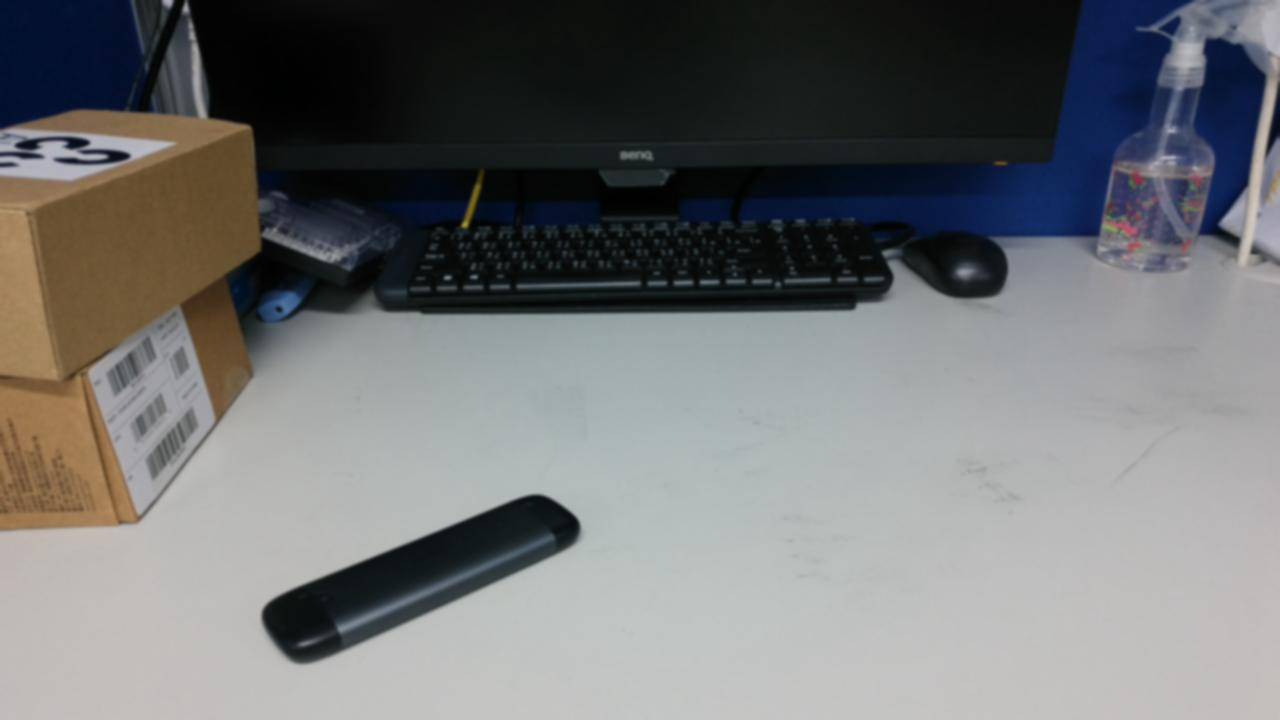long: (590, 414, 854, 465)
